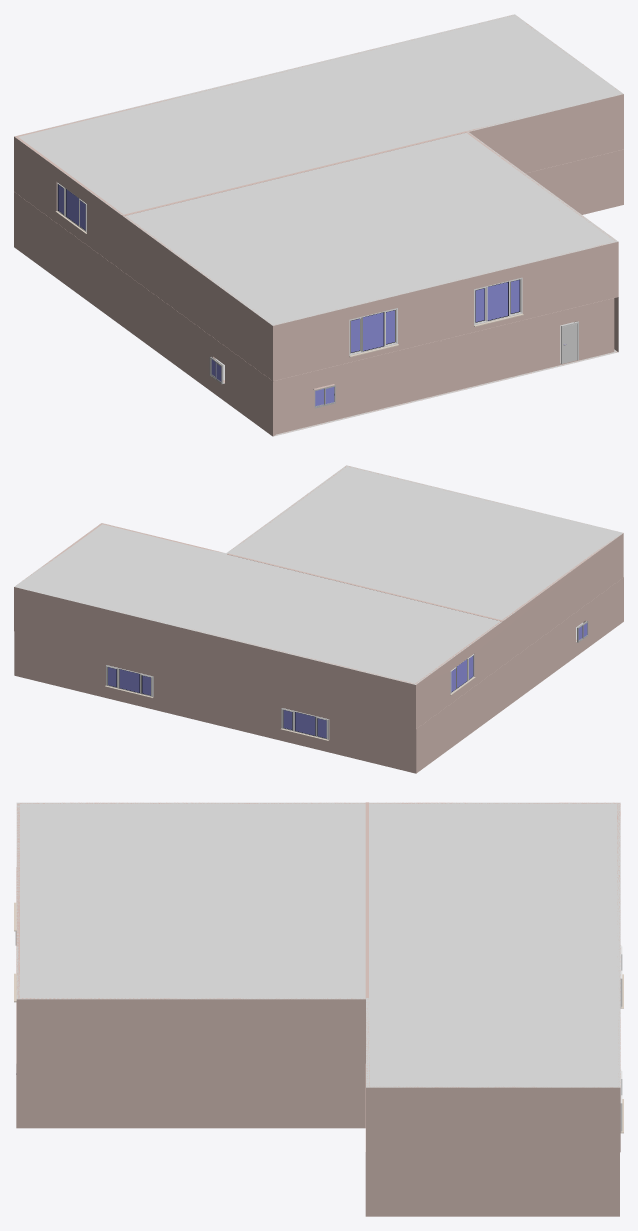
The model's file is batiment 1.0.fbx.
3 views of the same model, one above another, from view 1: azimuth 30°, elevation 25°; view 2: azimuth 150°, elevation 25°; view 3: azimuth 270°, elevation 25° (orthographic). The views are drawn at different scales.
Parts seen in each view (by area): view 1: Ceiling.001; view 2: Ceiling.001; view 3: Ceiling.001.
Part boxes in pixels (x1,y1,x2,y2): Ceiling.001: (14,14,623,436); Ceiling.001: (14,465,623,773); Ceiling.001: (14,802,623,1216).
Size of the model in its own units: 2917 by 614 by 2620.
